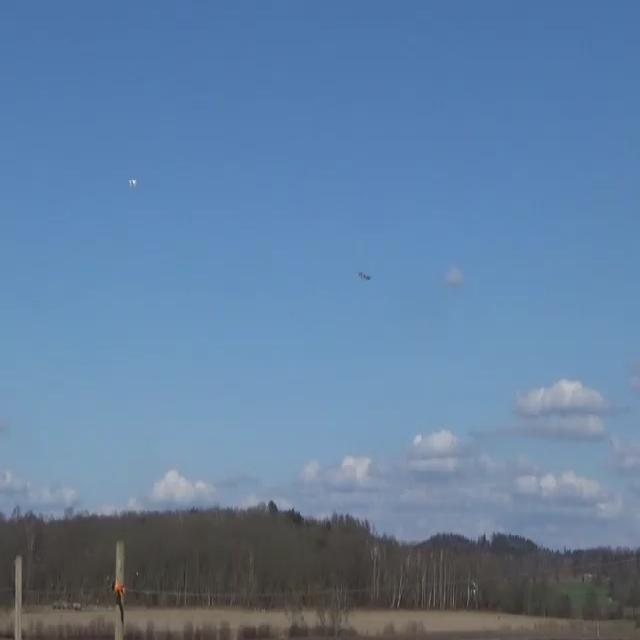Drone: (344, 248, 383, 306), (122, 171, 143, 198)
